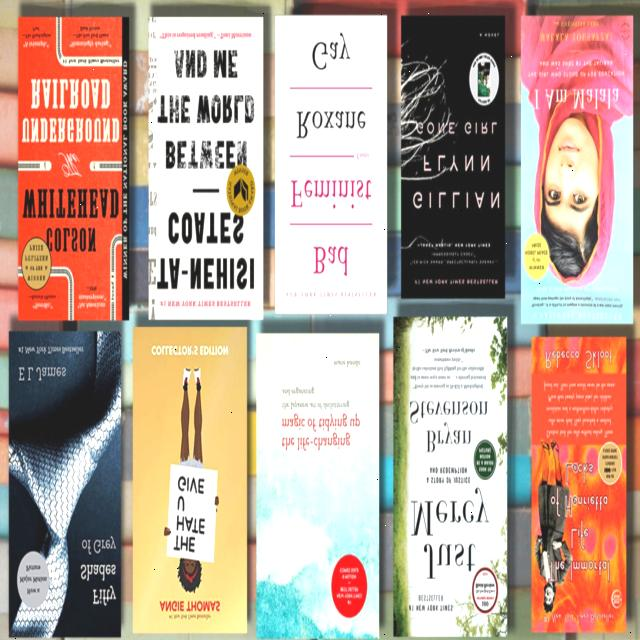book: (256, 333, 380, 640), (392, 318, 508, 636), (520, 14, 634, 325), (148, 17, 264, 319), (133, 328, 247, 632), (10, 331, 122, 638), (15, 17, 128, 321), (274, 17, 388, 315), (400, 15, 505, 298), (530, 337, 628, 633)
